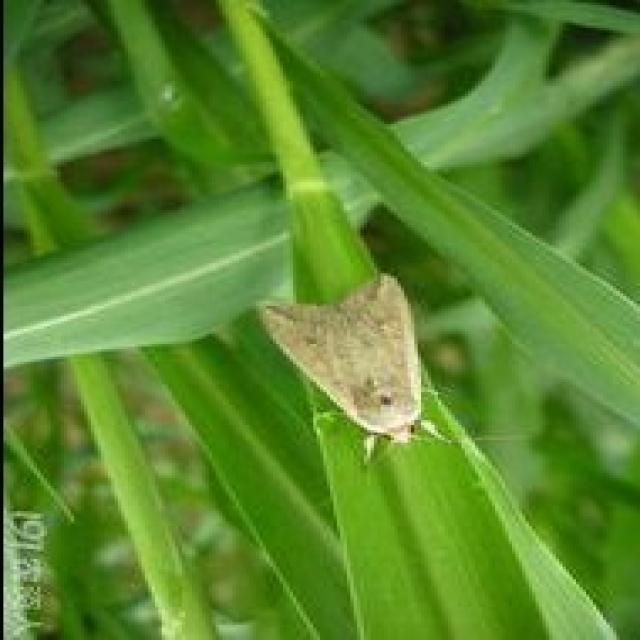army worm: (249, 268, 441, 452)
